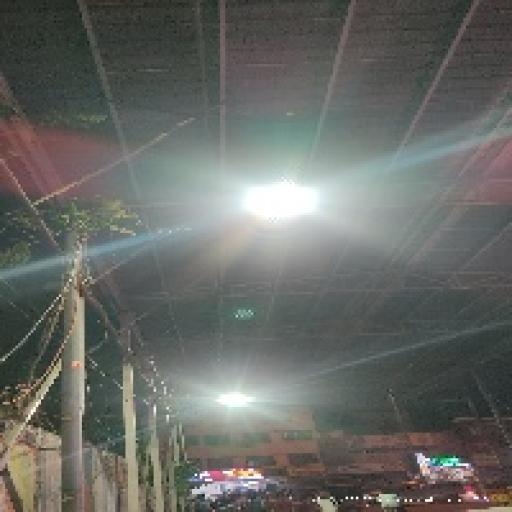Working: (209, 384, 260, 416)
